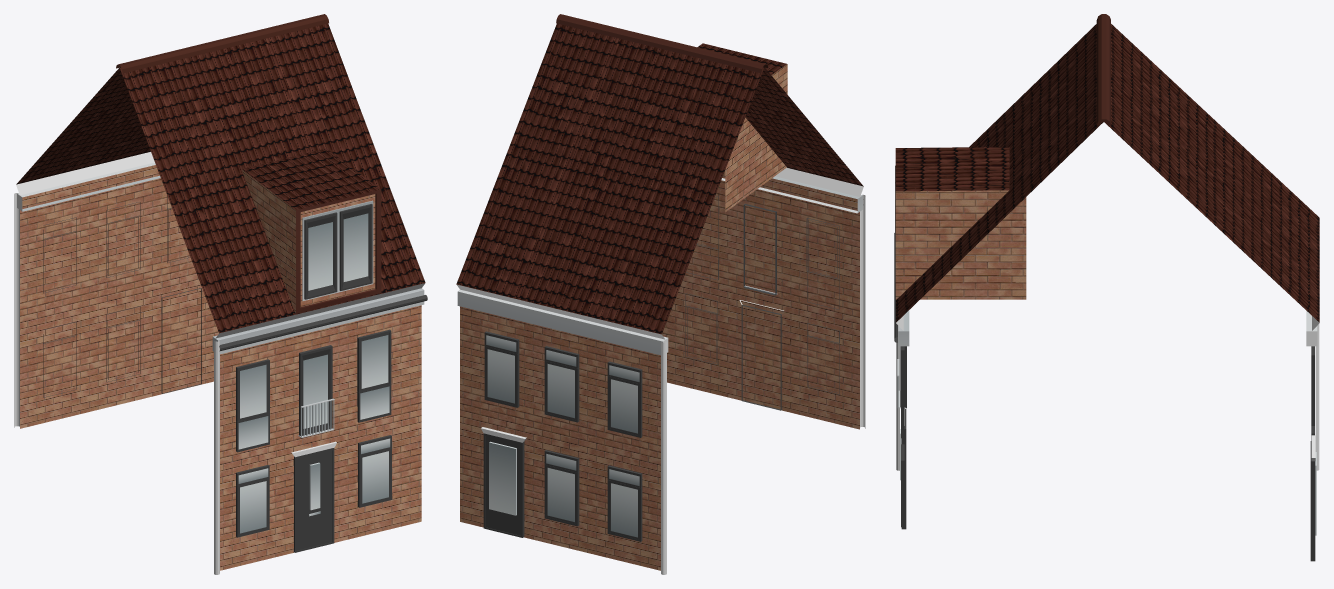
File: It_Tek_30.fbx
3 views of the same model, side by side, from view 1: azimuth 30°, elevation 25°; view 2: azimuth 150°, elevation 25°; view 3: azimuth 270°, elevation 25° (orthographic). The views are drawn at different scales.
Visible parts, largest first — view 1: It_Tek_30; view 2: It_Tek_30; view 3: It_Tek_30.
Boxes of the visible parts, bbox=[...] form: It_Tek_30: bbox=[14, 14, 427, 574]; It_Tek_30: bbox=[456, 14, 865, 574]; It_Tek_30: bbox=[894, 14, 1319, 561].
Bounding box in the file's own units: 560 × 1107 × 937.
